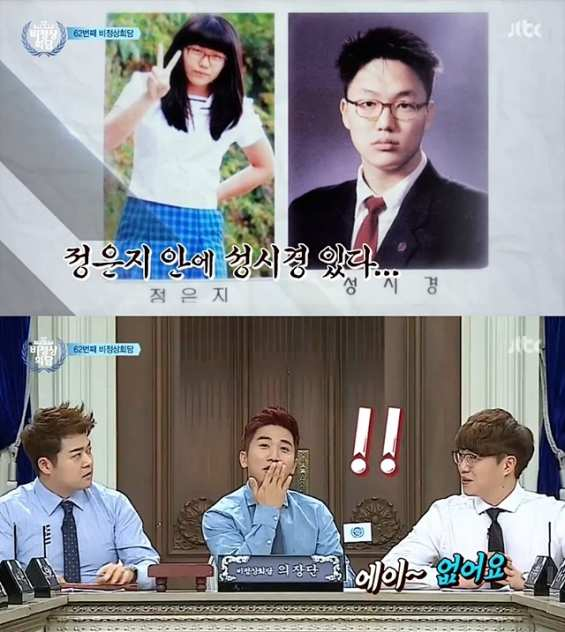face: (348, 56, 426, 168), (247, 423, 294, 487), (456, 441, 500, 494), (53, 432, 93, 489), (184, 37, 224, 85)
